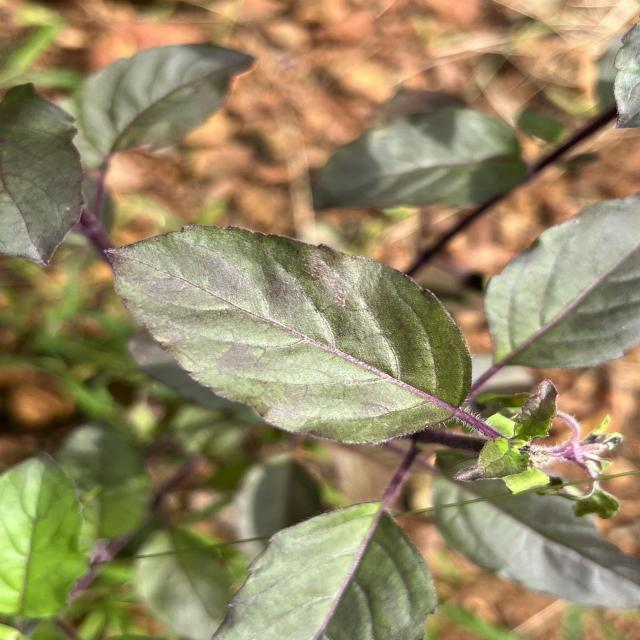Ocimum tenuiflorum: (98, 217, 478, 450)
